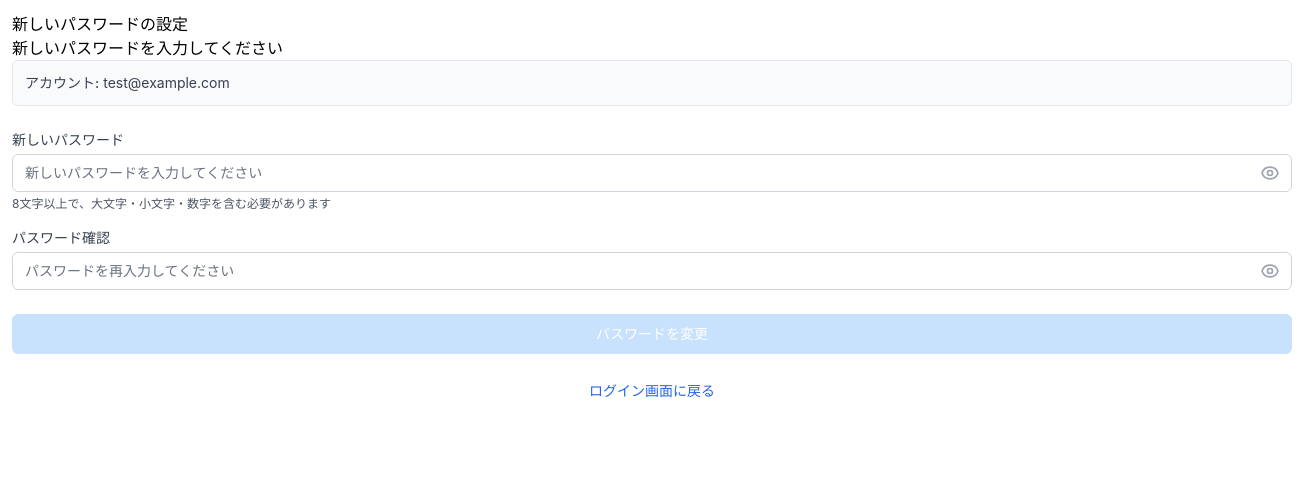
PasswordResetPage › フォーム入力 › パスワードが一致しない場合にバリデーションエラーが表示される
Type "Password123" into the password field labelled "新しいパスワード".
click(652, 173); type("Password123")  # box [12, 154, 1292, 192]
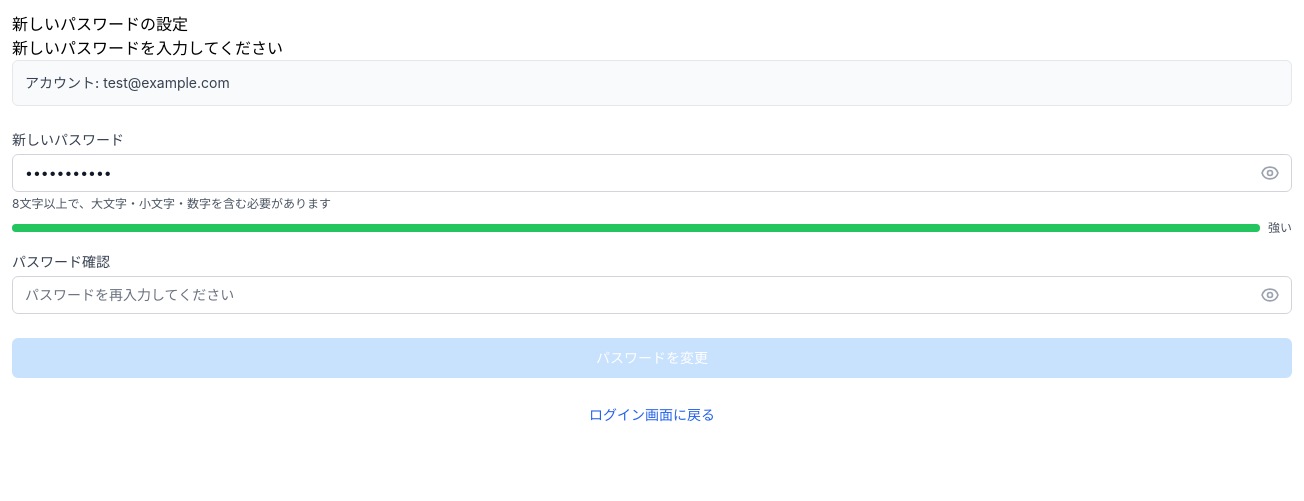
Type "DifferentPassword" into the password field labelled "パスワード確認".
click(652, 295); type("DifferentPassword")  # box [12, 276, 1292, 314]
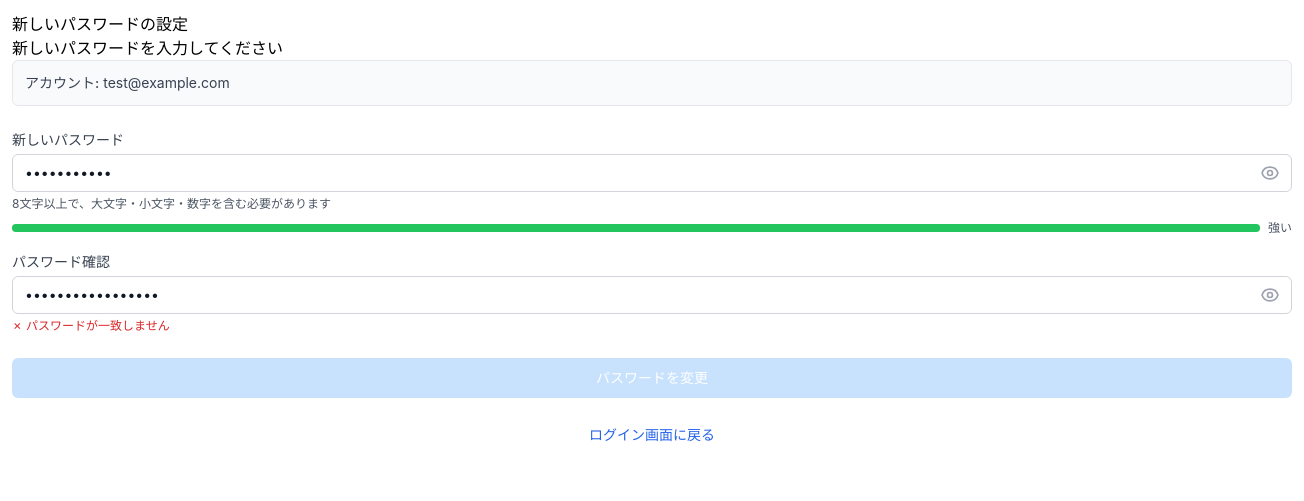
Leave the password field labelled "パスワード確認", box [12, 276, 1292, 314]
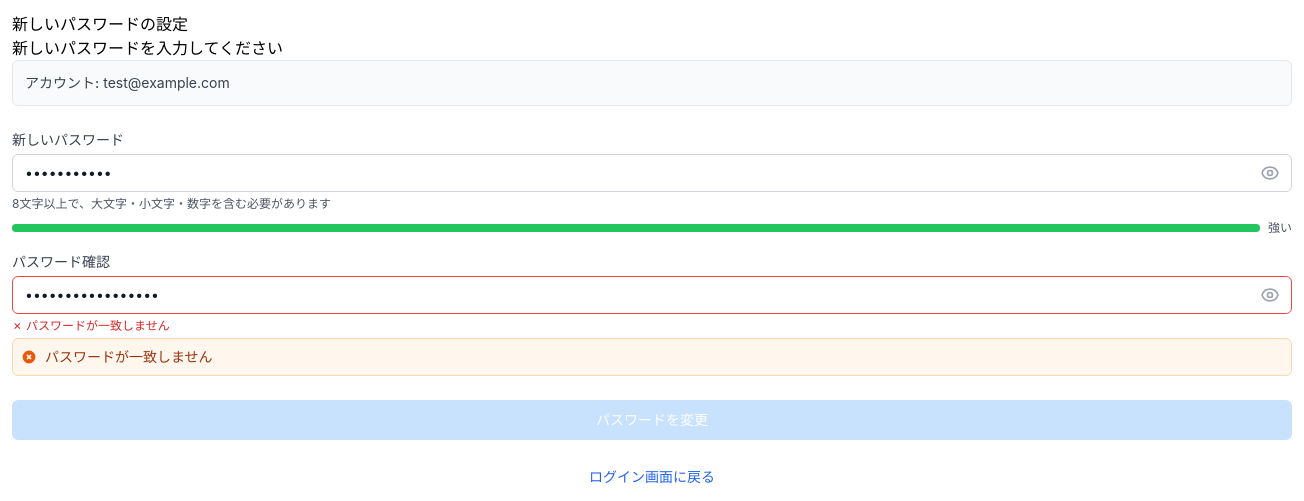
Now the text "パスワードが一致しません" is shown, box [44, 347, 213, 365]
